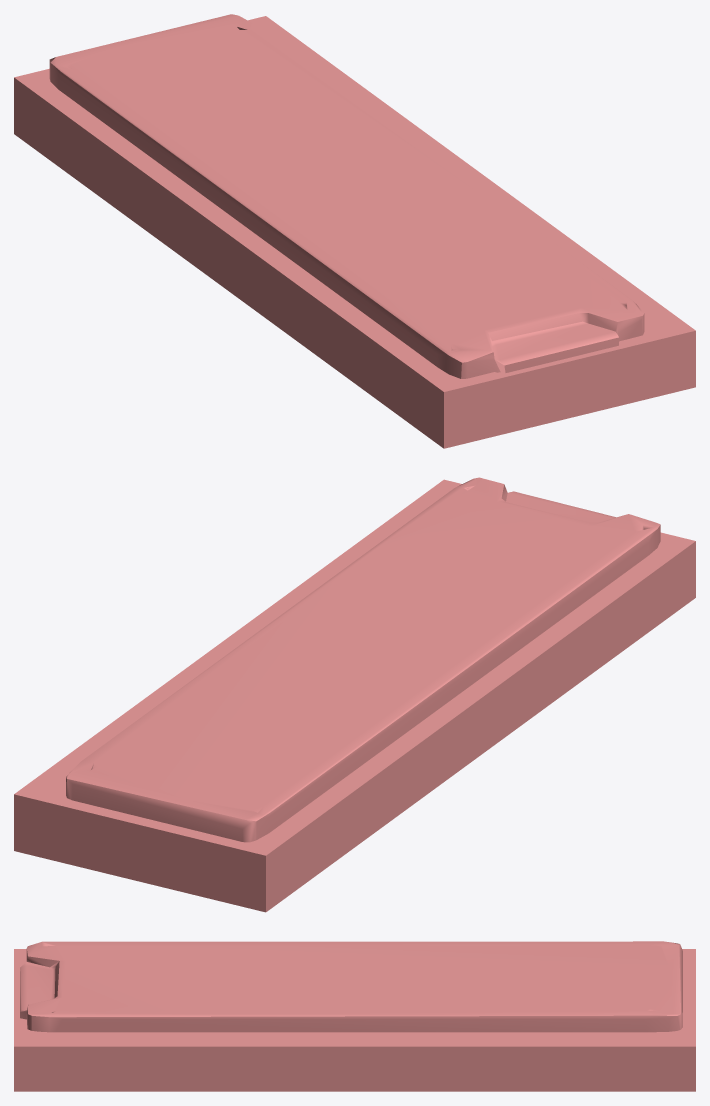
Rendered from ComplexWall_3x1_04_Final.fbx.
3 views of the same model, one above another, from view 1: azimuth 30°, elevation 25°; view 2: azimuth 150°, elevation 25°; view 3: azimuth 270°, elevation 25° (orthographic). The views are drawn at different scales.
Visible parts, largest first — view 1: Final_ComplexWall_3x1_04; view 2: Final_ComplexWall_3x1_04; view 3: Final_ComplexWall_3x1_04.
Part boxes in pixels (bbox=[...]): Final_ComplexWall_3x1_04: bbox=[14, 14, 695, 448]; Final_ComplexWall_3x1_04: bbox=[14, 477, 695, 912]; Final_ComplexWall_3x1_04: bbox=[14, 941, 695, 1091].
Bounding box in the file's own units: 102 × 29.82 × 300.
